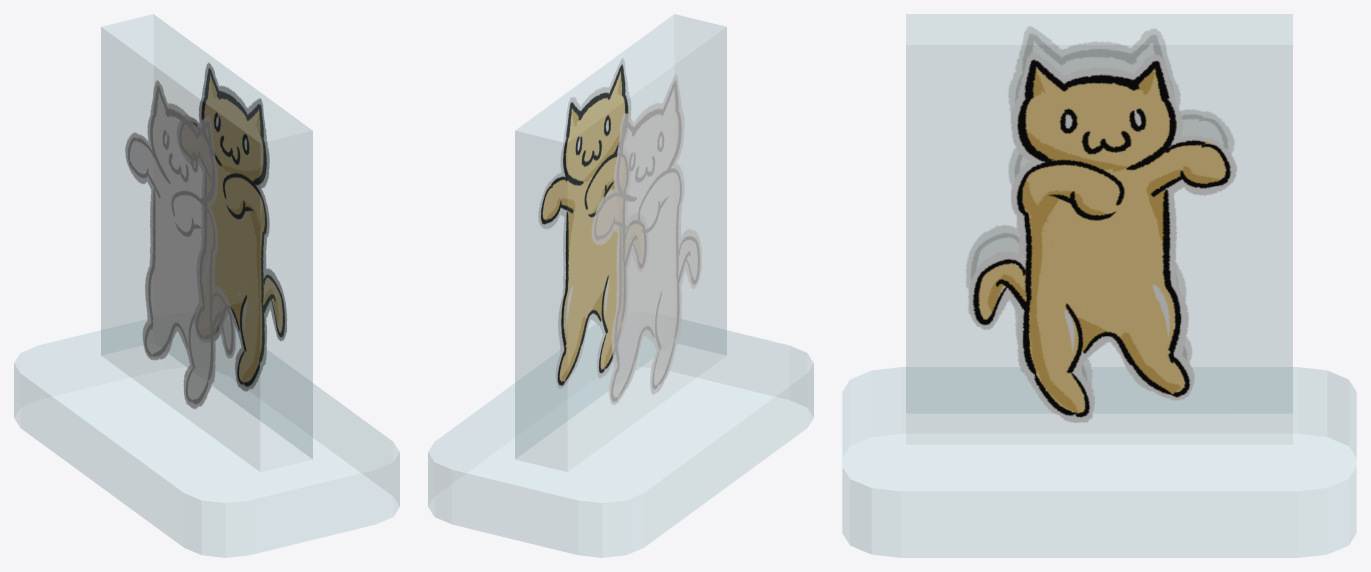
Rendered from acrylic_stand.glb.
3 views of the same model, side by side, from view 1: azimuth 30°, elevation 25°; view 2: azimuth 150°, elevation 25°; view 3: azimuth 270°, elevation 25° (orthographic). The views are drawn at different scales.
Visible parts, largest first — view 1: Cube; view 2: Cube; view 3: Cube.
Boxes of the visible parts, x1,y1,x2,y2 form: Cube: [14, 14, 399, 557]; Cube: [428, 14, 813, 557]; Cube: [842, 14, 1356, 557].
Size of the model in its own units: 0.4 by 0.7 by 0.7.
1 material, 1 textured.
